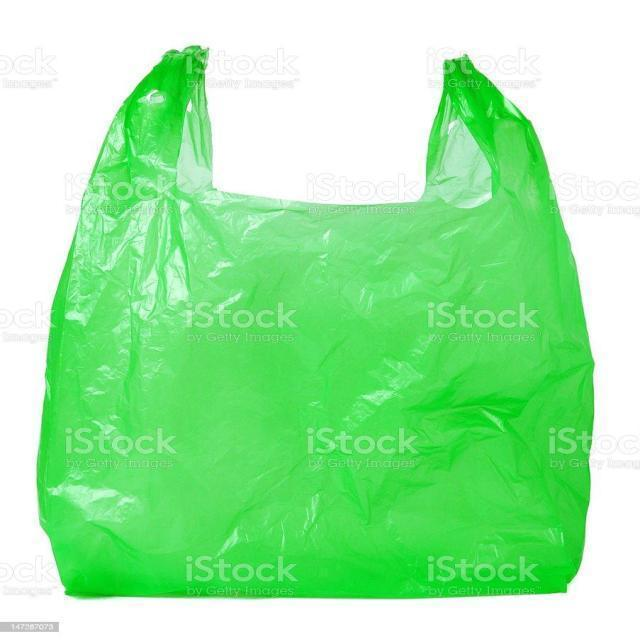Plastic_Bag: (48, 40, 588, 603)
